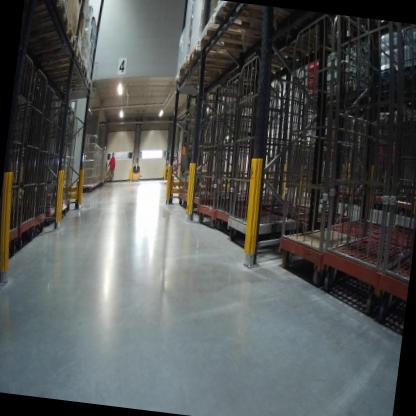forklift: (170, 93, 214, 192)
pallet: (214, 1, 302, 46), (197, 20, 294, 54), (171, 56, 252, 94), (183, 41, 253, 77), (23, 39, 87, 75), (22, 21, 77, 60), (28, 0, 76, 40), (31, 58, 91, 80), (45, 70, 95, 96), (65, 0, 88, 8)
pallet_truck: (161, 148, 182, 182), (130, 152, 146, 185)
